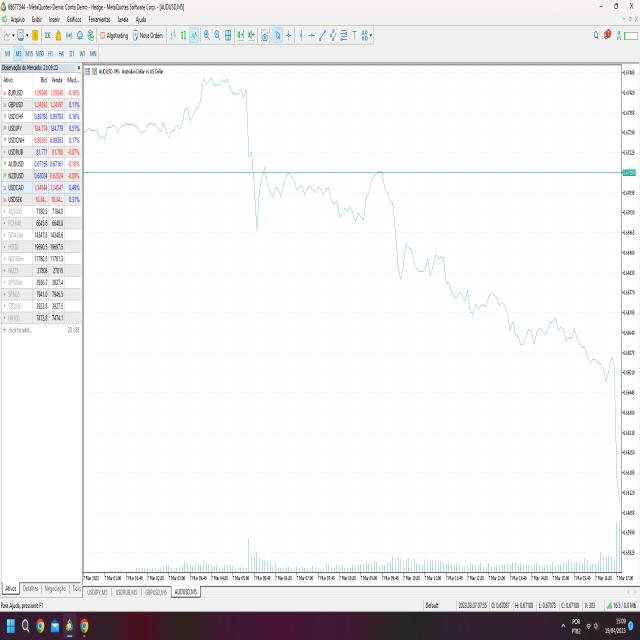bandeira_baixa: (241, 79, 293, 230), (383, 180, 436, 290)
